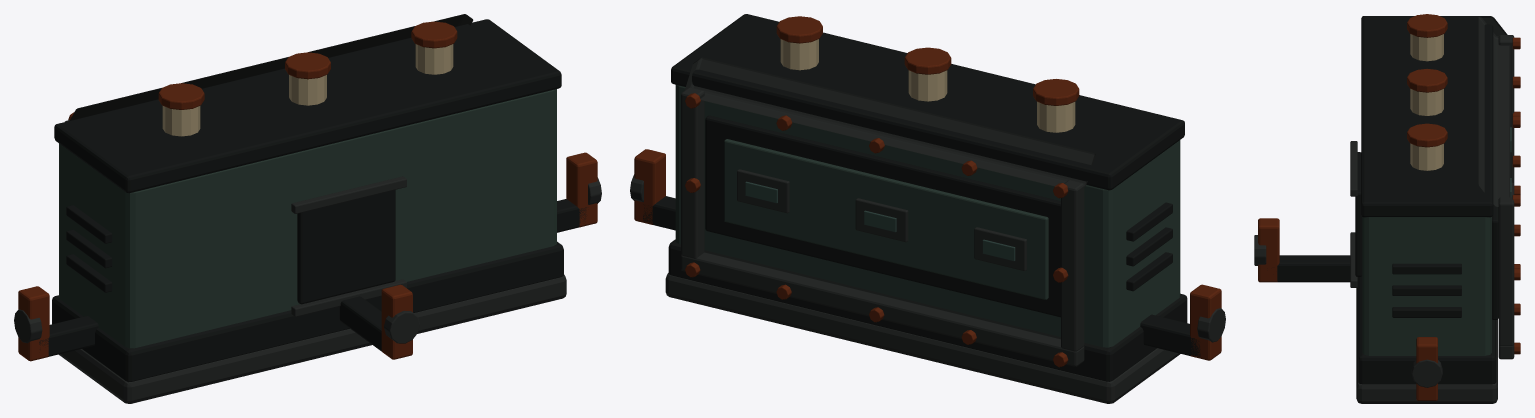
Rendered from castle-distributor.glb.
The picture shows the model from 3 angles, left to right: view 1: azimuth 30°, elevation 25°; view 2: azimuth 150°, elevation 25°; view 3: azimuth 270°, elevation 25°; orthographic projection. The views are drawn at different scales.
Visible parts, largest first — view 1: CastleDistributor_EnamelAssembly, CastleDistributor_IronAssembly, CastleDistributor_TrimAssembly, CastleDistributor_CopperAssembly, CastleDistributor_CeramicAssembly; view 2: CastleDistributor_IronAssembly, CastleDistributor_EnamelAssembly, CastleDistributor_TrimAssembly, CastleDistributor_CopperAssembly, CastleDistributor_CeramicAssembly, CastleDistributor_IndicatorAssembly; view 3: CastleDistributor_IronAssembly, CastleDistributor_EnamelAssembly, CastleDistributor_TrimAssembly, CastleDistributor_CopperAssembly, CastleDistributor_CeramicAssembly.
Boxes of the visible parts, x1=… form: CastleDistributor_EnamelAssembly: x1=59, y1=89, x2=556, y2=348; CastleDistributor_IronAssembly: x1=39, y1=19, x2=586, y2=382; CastleDistributor_TrimAssembly: x1=14, y1=14, x2=601, y2=403; CastleDistributor_CopperAssembly: x1=18, y1=21, x2=597, y2=361; CastleDistributor_CeramicAssembly: x1=162, y1=44, x2=453, y2=136; CastleDistributor_IronAssembly: x1=643, y1=14, x2=1200, y2=381; CastleDistributor_EnamelAssembly: x1=675, y1=85, x2=1180, y2=347; CastleDistributor_TrimAssembly: x1=630, y1=57, x2=1225, y2=403; CastleDistributor_CopperAssembly: x1=634, y1=16, x2=1221, y2=367; CastleDistributor_CeramicAssembly: x1=780, y1=39, x2=1075, y2=132; CastleDistributor_IndicatorAssembly: x1=745, y1=181, x2=1015, y2=261; CastleDistributor_IronAssembly: x1=1277, y1=16, x2=1498, y2=384; CastleDistributor_EnamelAssembly: x1=1362, y1=217, x2=1491, y2=355; CastleDistributor_TrimAssembly: x1=1254, y1=16, x2=1514, y2=403; CastleDistributor_CopperAssembly: x1=1258, y1=14, x2=1520, y2=400; CastleDistributor_CeramicAssembly: x1=1410, y1=34, x2=1443, y2=170.
Size of the model in its own units: 4.88 by 2.14 by 2.22.
